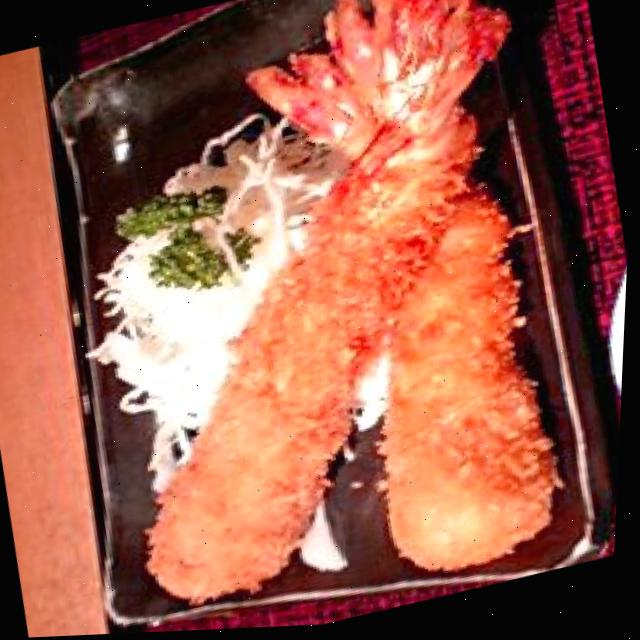炸货点心: (95, 0, 640, 636)
熟制海鲜: (95, 0, 640, 636)
